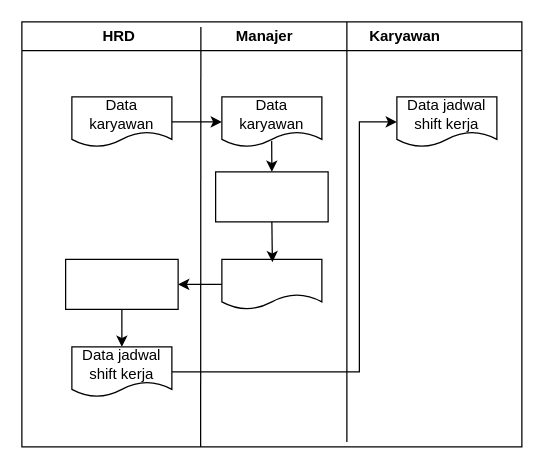
This 544x470 diagram has some shape labels left out. The shapes that lost their labels are listed below. From the top down, each one's box as (x1, y1, x2, y2) in pixels, then its label:
(214, 171, 328, 222): Menyeleksi karyawan
(64, 258, 178, 309): Membuat jadwal shift kerja
(221, 258, 322, 309): Data karyawan terpilih
